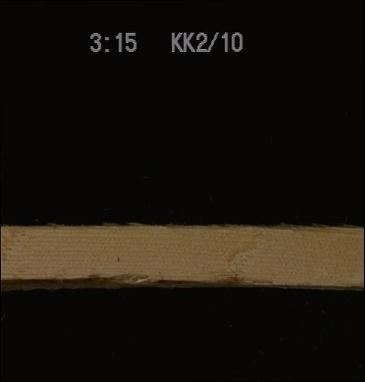wave: (0, 268, 267, 287)
